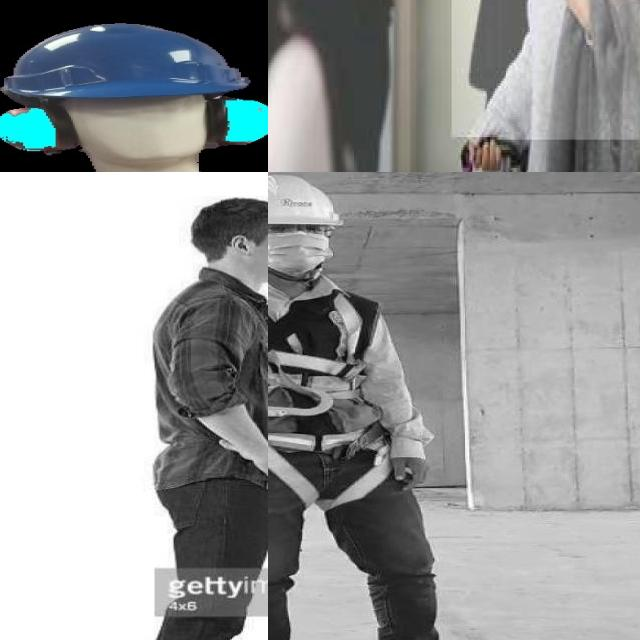Ear-protection: (0, 100, 268, 156)
No_Ear-Protection: (220, 230, 257, 264)
face_mask: (268, 226, 334, 269)
hand_noglove: (388, 440, 438, 504), (461, 117, 508, 172)
head_helmet: (0, 8, 268, 110)
person: (268, 172, 491, 640), (133, 196, 268, 640), (451, 0, 640, 139), (268, 0, 411, 172), (498, 0, 640, 172)
